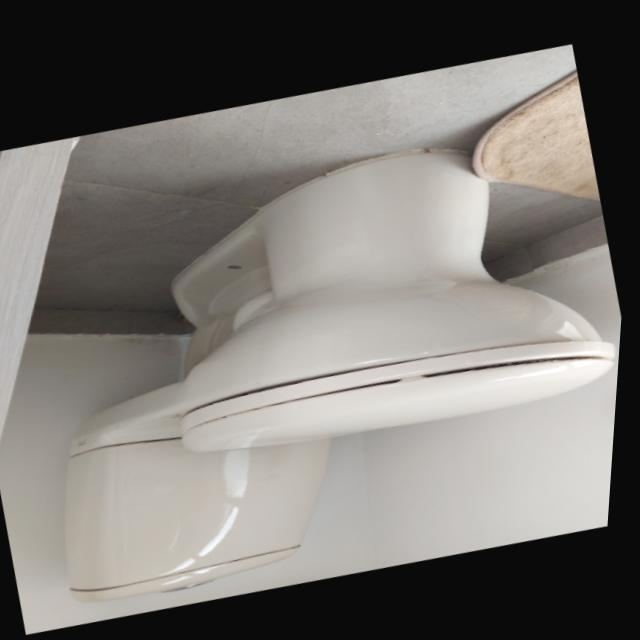toilet: (0, 85, 636, 634)
